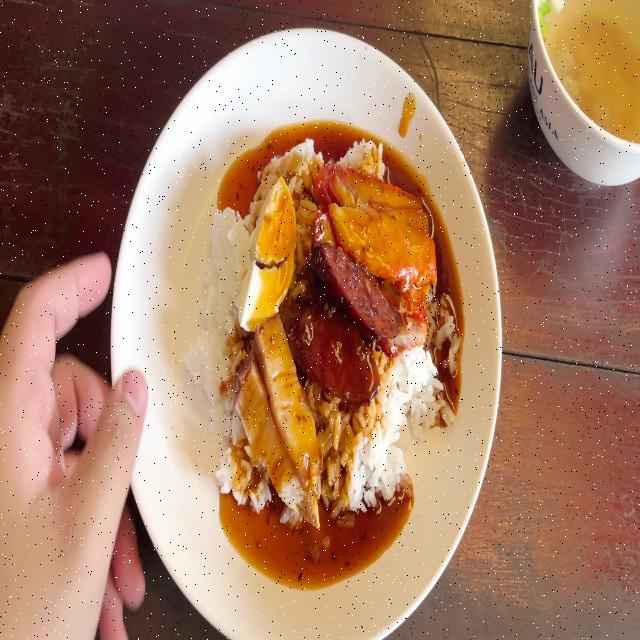boiled_egg: (238, 181, 294, 326)
chainese_sausage: (292, 245, 388, 392)
crispy_pork: (240, 323, 312, 502)
red_pork: (322, 153, 428, 283)
red_pork_and_crispy_pork: (186, 140, 444, 543)
rice: (345, 362, 423, 508), (197, 197, 240, 414)
